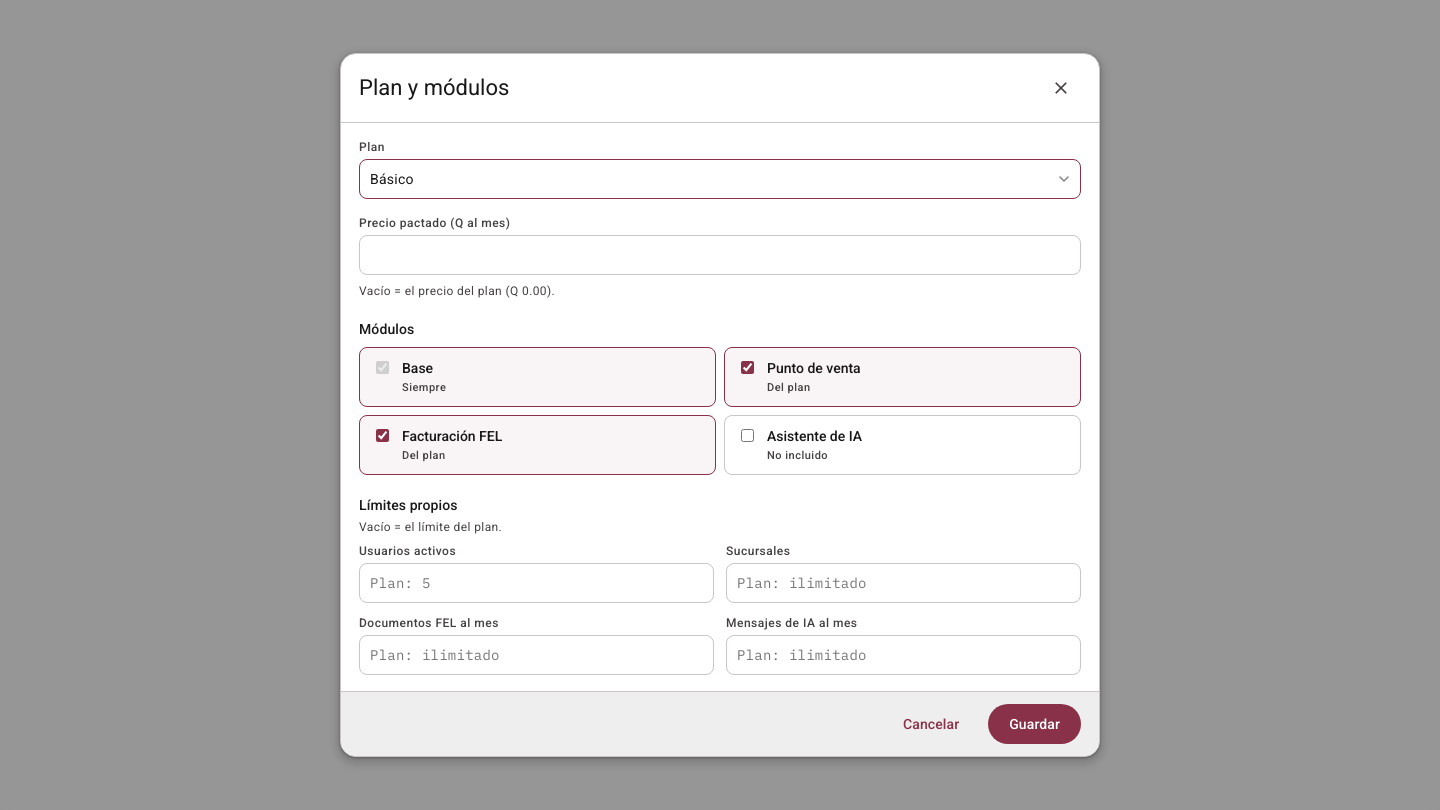
SubscriptionDialog › activar y quitar módulos se guarda como excepciones; los límites vacíos usan el plan
Later steps or results of the test are not shown.
Click the checkbox labelled "Asistente de IA No incluido" at (748, 436), box [741, 429, 754, 442]
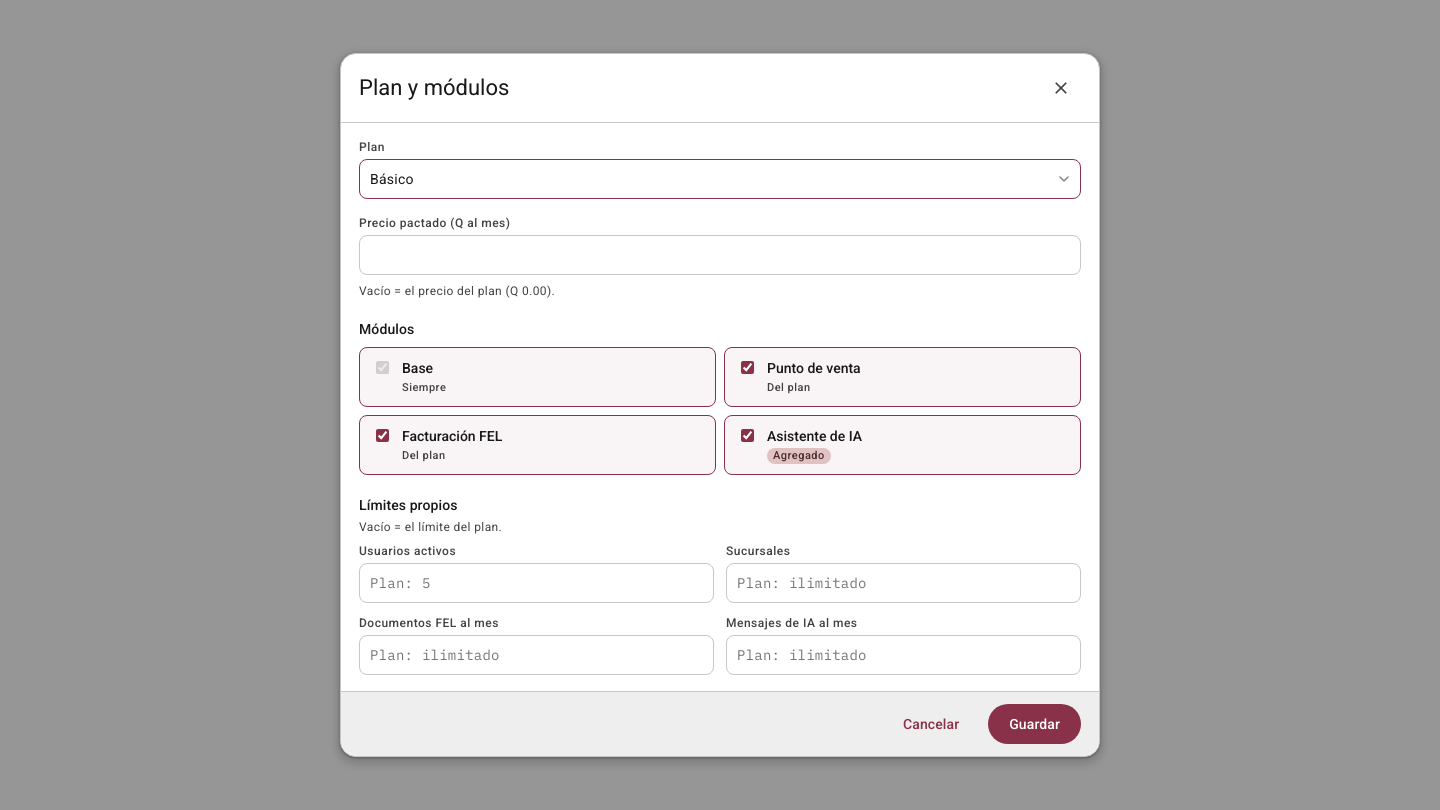
Click the checkbox labelled "Punto de venta Del plan" at (748, 368), box [741, 361, 754, 374]
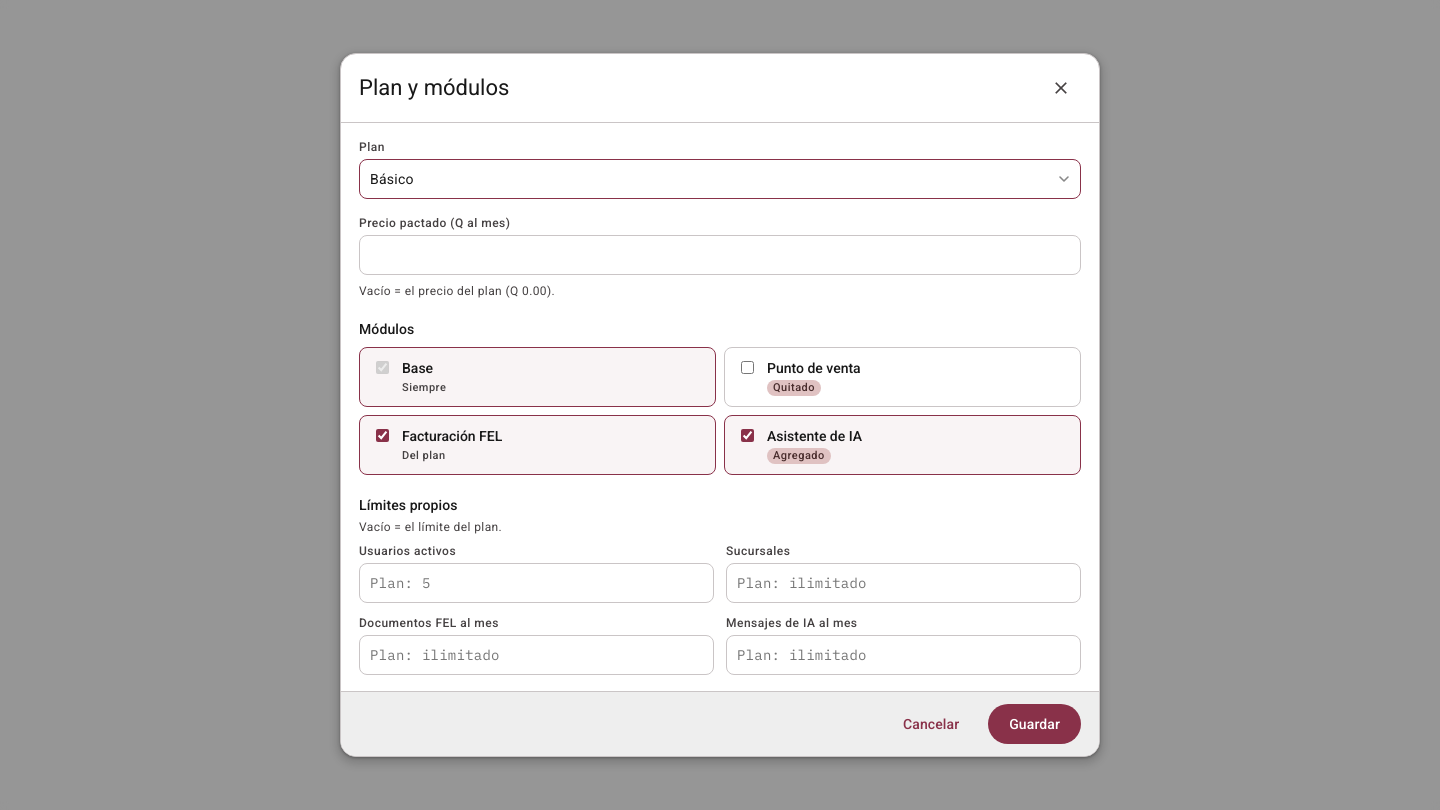
Expected: the text "Agregado" is shown, [767, 448, 831, 464]
Expected: the text "Quitado" is shown, [767, 380, 821, 396]
